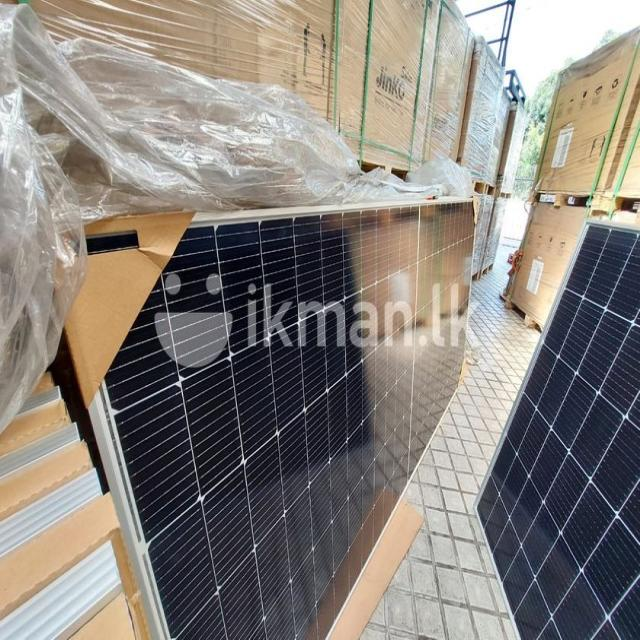clean-solar-panel: (90, 198, 471, 638), (479, 222, 640, 637)
